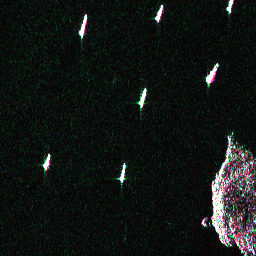ship: (203, 61, 222, 87), (77, 13, 90, 40), (136, 86, 150, 110), (152, 3, 166, 24), (40, 151, 53, 172), (117, 162, 128, 184), (224, 1, 235, 14)
